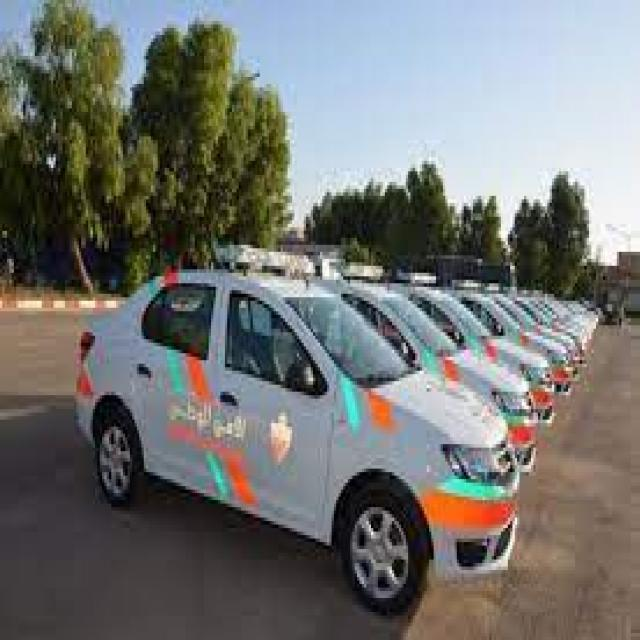police: (77, 248, 518, 606)
